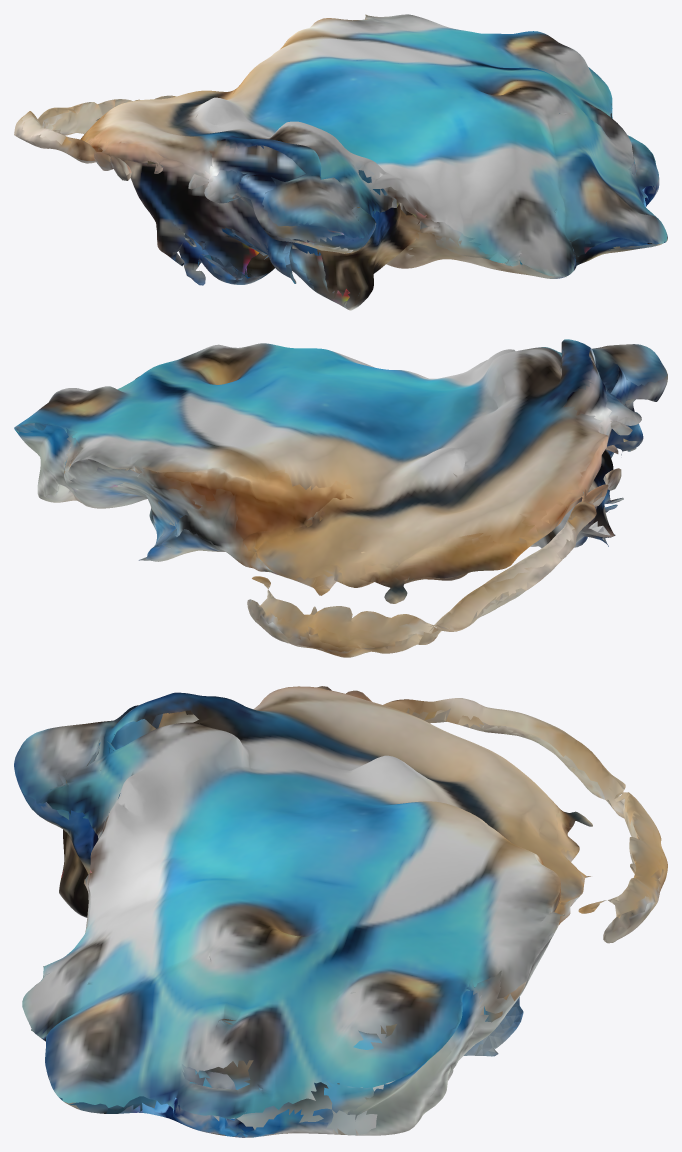
File: ecg_tabs_1.glb
The picture shows the model from 3 angles, top to bottom: view 1: azimuth 30°, elevation 25°; view 2: azimuth 150°, elevation 25°; view 3: azimuth 270°, elevation 25°; orthographic projection. The views are drawn at different scales.
Parts seen in each view (by area): view 1: Body; view 2: Body; view 3: Body.
Boxes of the visible parts, x1,y1,x2,y2 form: Body: (14,14,667,310); Body: (14,339,667,657); Body: (14,686,667,1137).
Size of the model in its own units: 0.3887 by 0.111 by 0.3324.
Materials: 1 (1 with a texture image).
